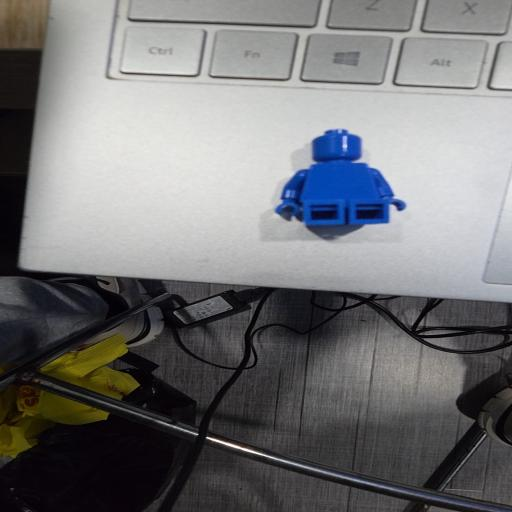Blue: (276, 130, 405, 226)
